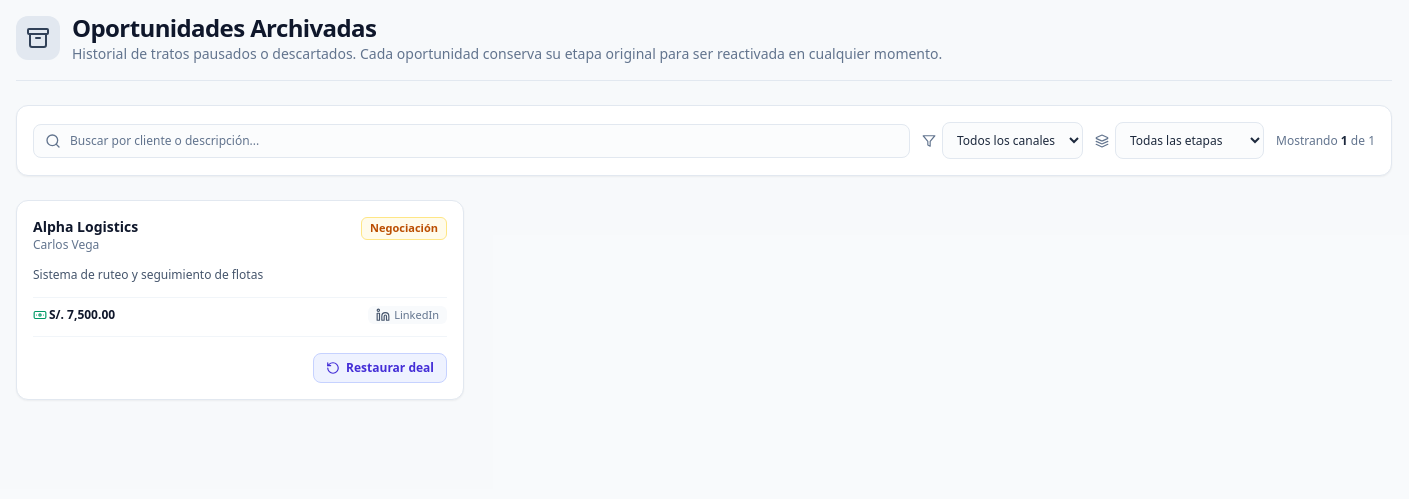
Test: Vista de Oportunidades Archivadas (/archive) › 4. Acción de Restitución (Desarchivo) › muestra mensaje de error si la restitución falla
Click the button "Restaurar deal".
click(380, 368)  # box [313,353,447,383]
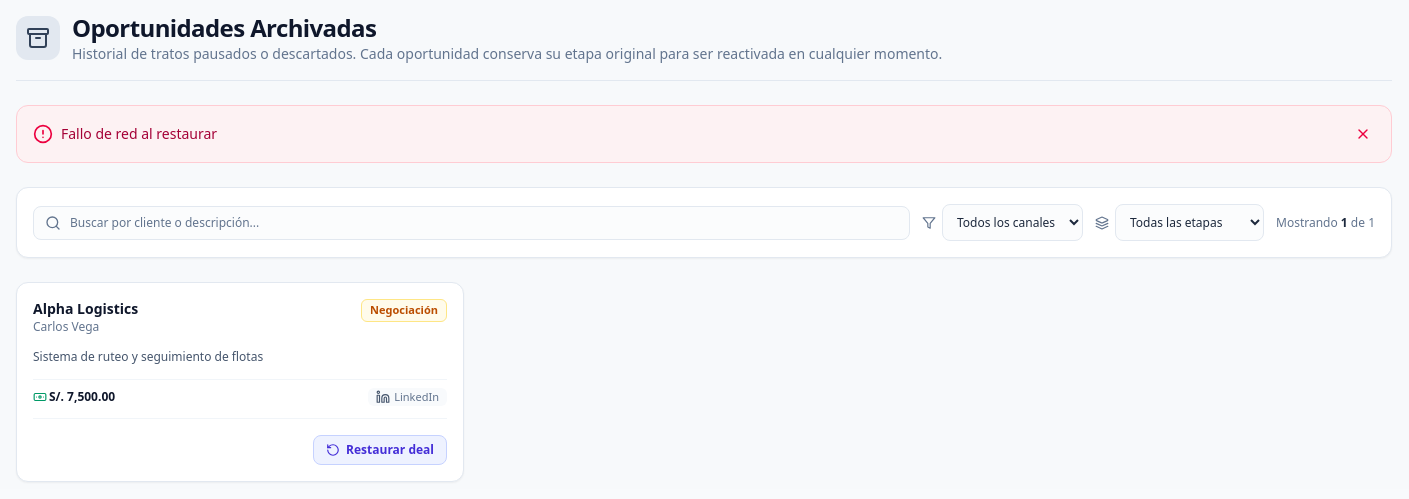
expect the heading "Alpha Logistics" is shown: met, box [33,299,138,318]
expect the text "Fallo de red al restaurar" is shown: met, box [61,124,217,144]
